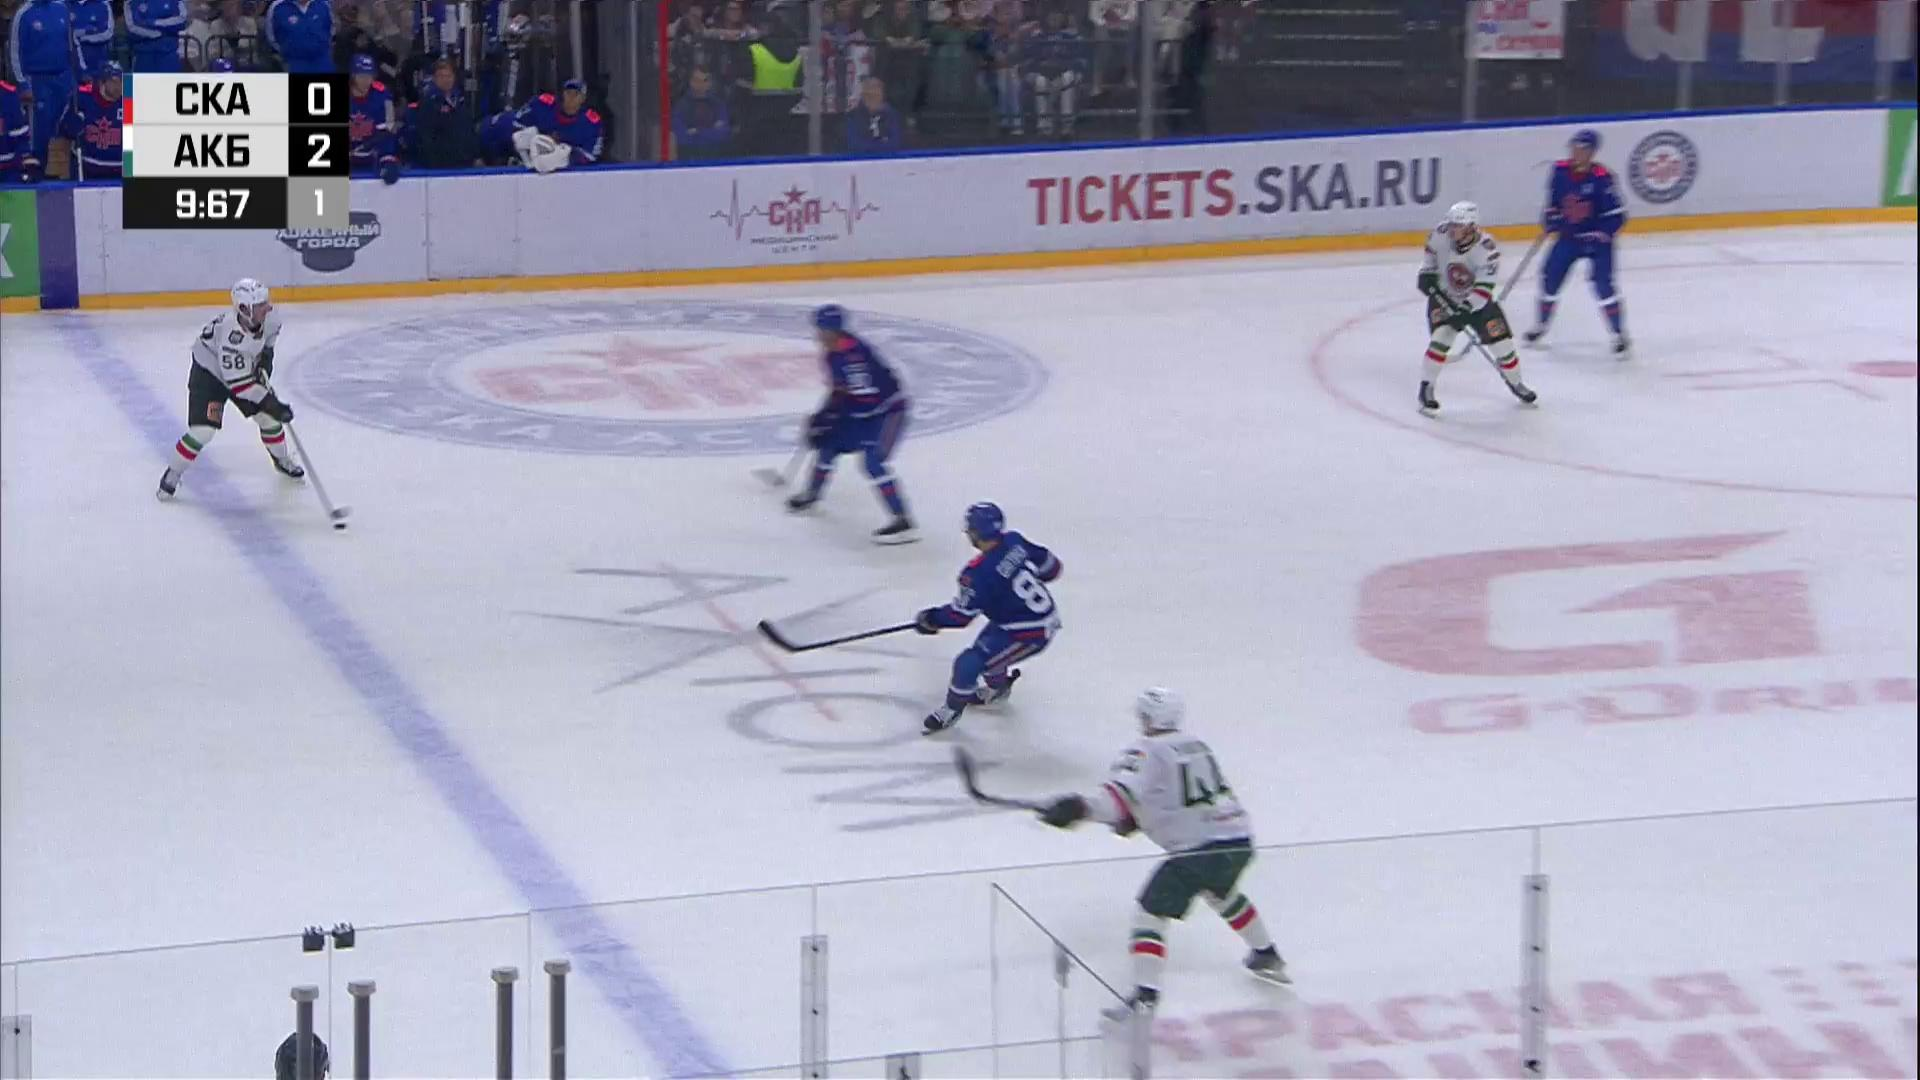ball: (332, 522, 348, 531)
